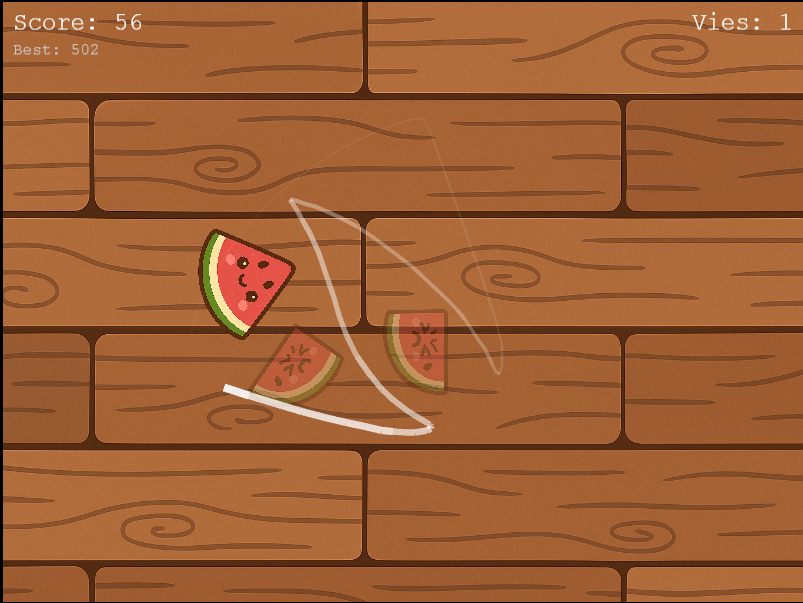fruit: (191, 223, 301, 345)
